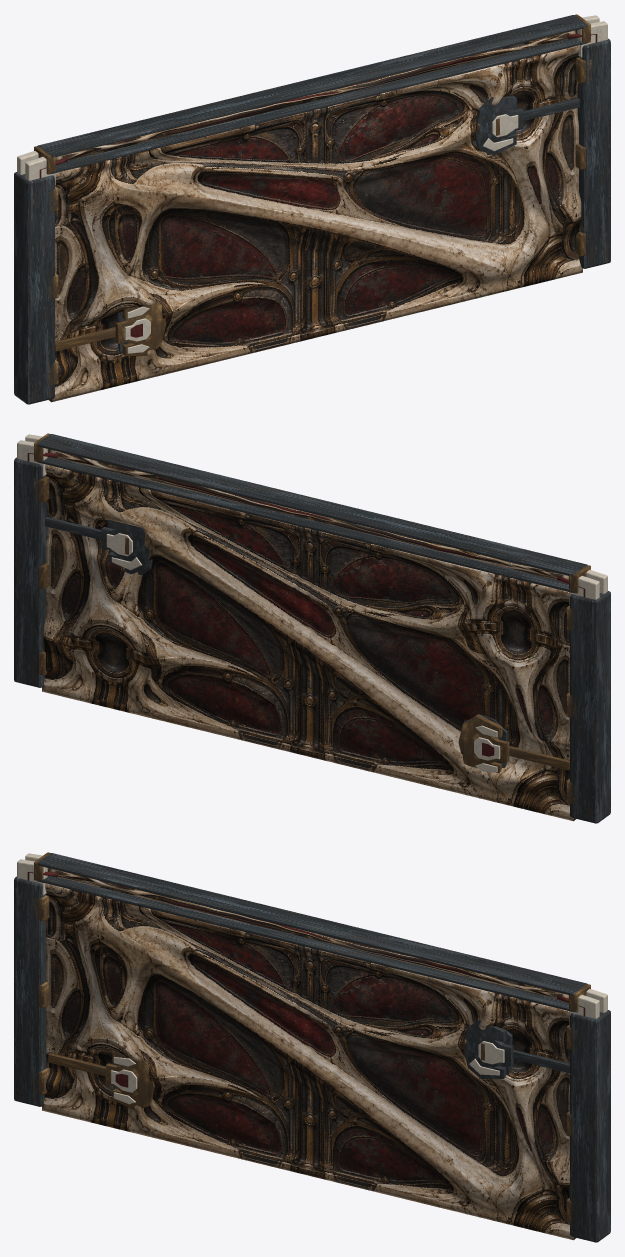
The model's file is ossuary_threshold.glb.
The picture shows the model from 3 angles, top to bottom: view 1: azimuth 30°, elevation 25°; view 2: azimuth 150°, elevation 25°; view 3: azimuth 330°, elevation 25°; orthographic projection.
Parts seen in each view (by area): view 1: MovingLeaf_Visual, StationaryFrame_Visual, ReleasedClosure_Visual, BloodLatch_Visual, IvoryLatch_Visual; view 2: MovingLeaf_Visual, StationaryFrame_Visual, ReleasedClosure_Visual, BloodLatch_Visual, IvoryLatch_Visual; view 3: MovingLeaf_Visual, StationaryFrame_Visual, ReleasedClosure_Visual, IvoryLatch_Visual, BloodLatch_Visual.
Part boxes in pixels (x1,y1,x2,y2): MovingLeaf_Visual: (49, 45, 582, 402); StationaryFrame_Visual: (14, 14, 610, 404); ReleasedClosure_Visual: (56, 30, 576, 160); BloodLatch_Visual: (115, 314, 154, 344); IvoryLatch_Visual: (488, 108, 523, 140); MovingLeaf_Visual: (42, 464, 575, 821); StationaryFrame_Visual: (14, 433, 610, 823); ReleasedClosure_Visual: (48, 449, 568, 579); BloodLatch_Visual: (470, 733, 509, 763); IvoryLatch_Visual: (101, 527, 136, 559); MovingLeaf_Visual: (42, 883, 575, 1240); StationaryFrame_Visual: (14, 852, 610, 1242); ReleasedClosure_Visual: (48, 868, 568, 998); IvoryLatch_Visual: (475, 1037, 513, 1067); BloodLatch_Visual: (105, 1063, 141, 1095).
Bounding box in the file's own units: 13.41 × 5.45 × 0.6.
5 materials, 5 textured.
